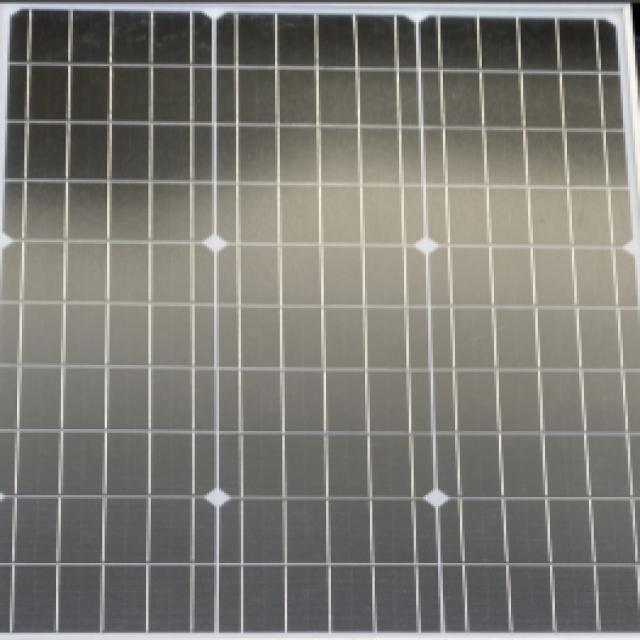clean-solar-panel: (3, 6, 637, 630)
